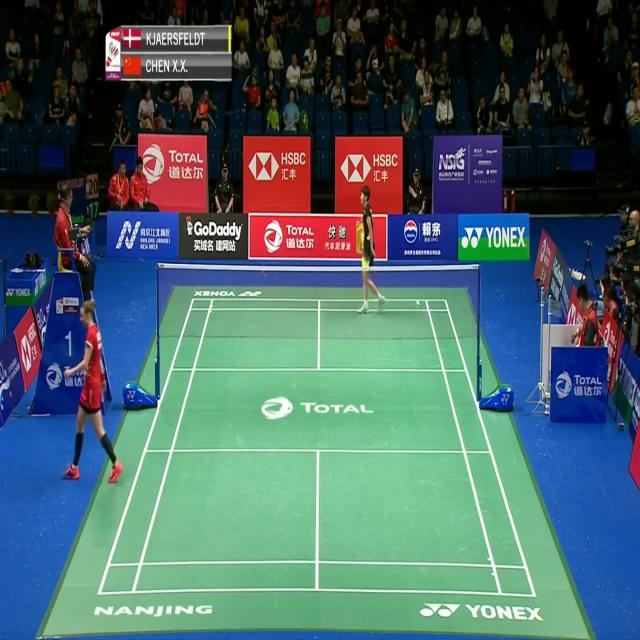Player1: (62, 294, 125, 489)
Player2: (356, 181, 388, 322)
